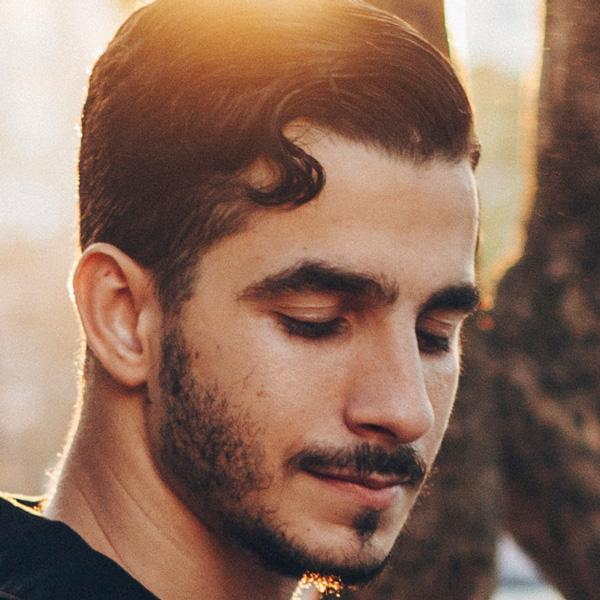Eyes: (246, 274, 356, 353), (404, 295, 468, 366)
